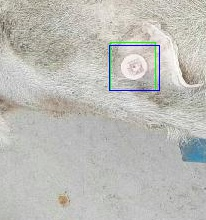text: (110, 42, 155, 90)
